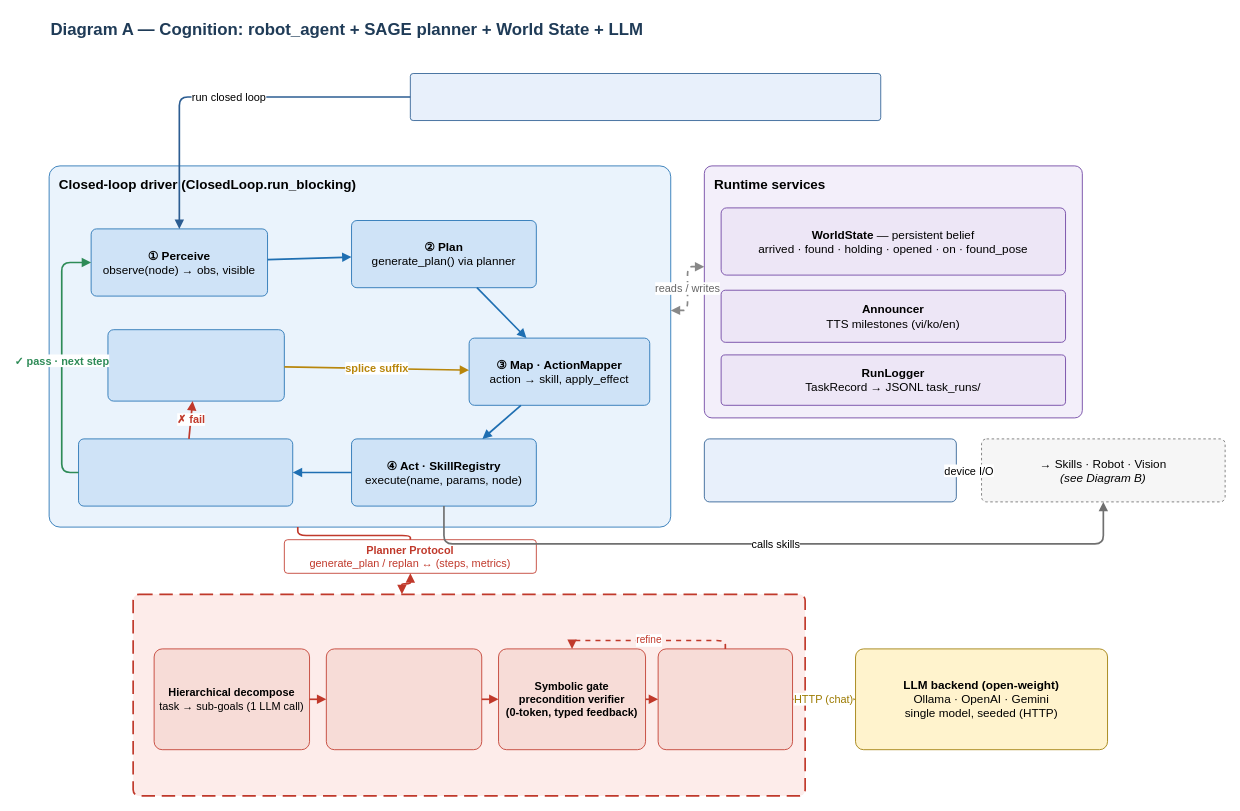
Some shapes in this 1240 by 811 pixel diagram are drawn without their labels. Each missing label, with the box of its shape:
DeviceManager connection registry · owns ROS2 node: (704, 438, 956, 502)
Hybrid memory seed GT + live episodes (Chroma / Jaccard): (326, 648, 482, 750)
Suffix edit local repair of the failed sub-goal: (657, 648, 793, 750)
UnifiedAgent translate (vi/ko→en) · route (planner = grace | direct, plan_only): (410, 73, 881, 121)
⑤ Verify · StepVerifier isdone → symbolic → VLM: (78, 438, 293, 506)
⑥ Replan planner.replan() suffix (≤3): (107, 329, 284, 401)
★ pyplanner · SAGE (Planner Protocol backend — this paper): (132, 593, 806, 796)
